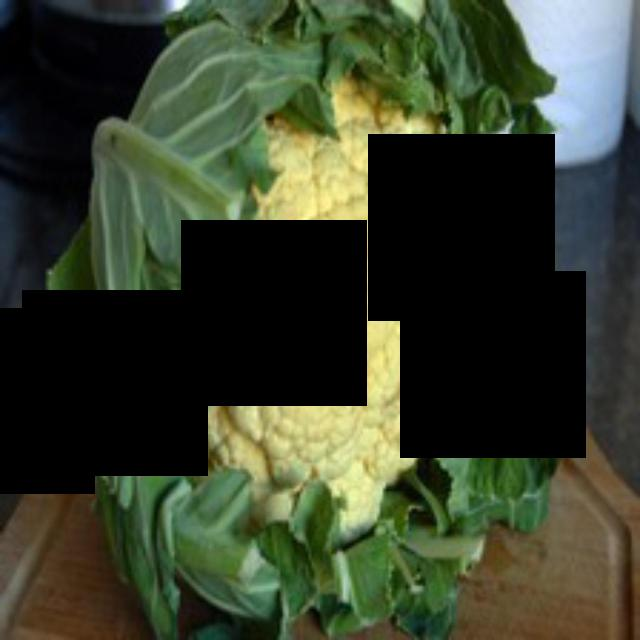cauliflower: (262, 107, 455, 536)
